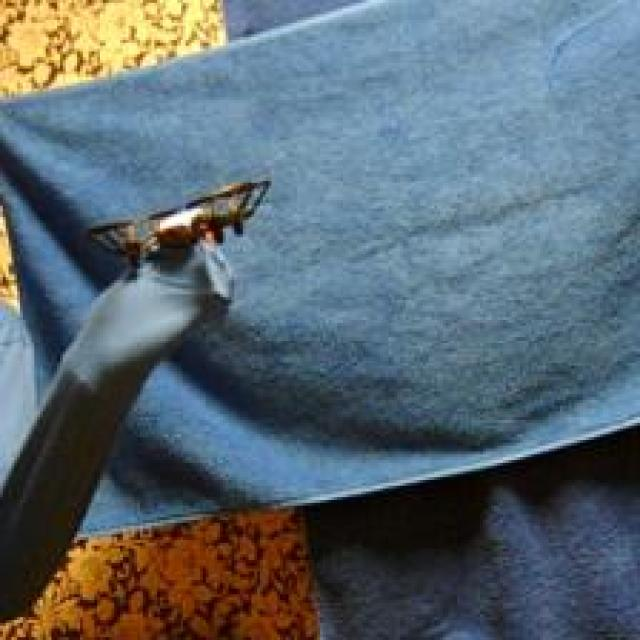drone: (86, 173, 274, 270)
